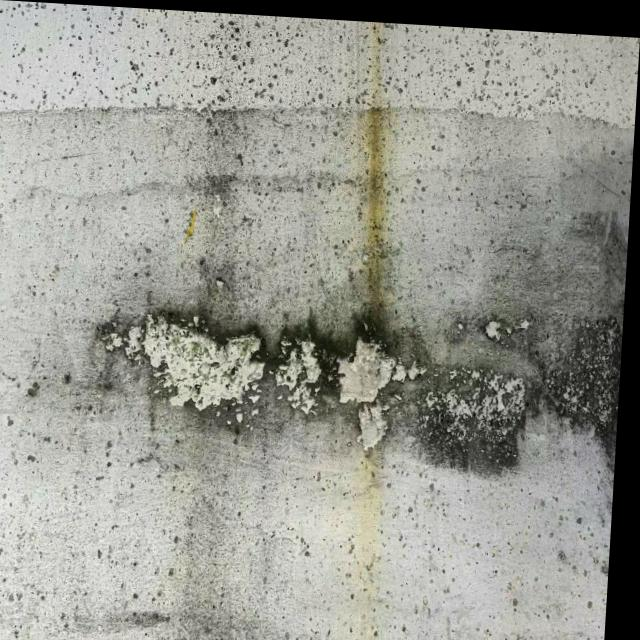mildew: (0, 75, 633, 541)
